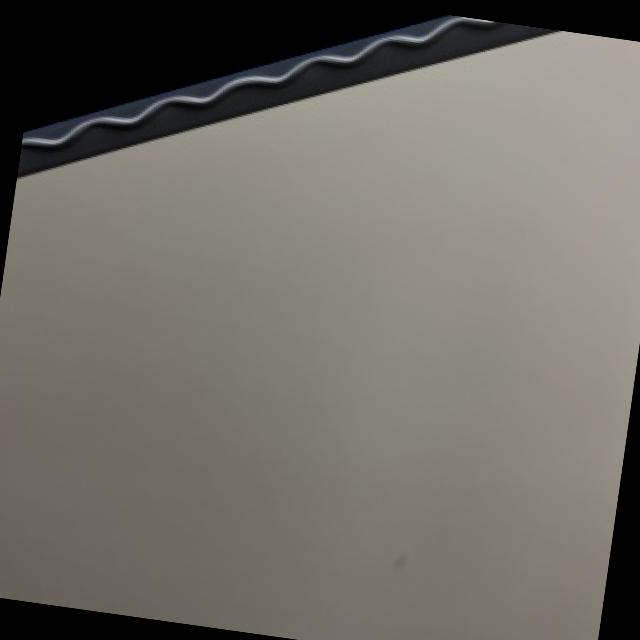healthy: (17, 0, 553, 174)
